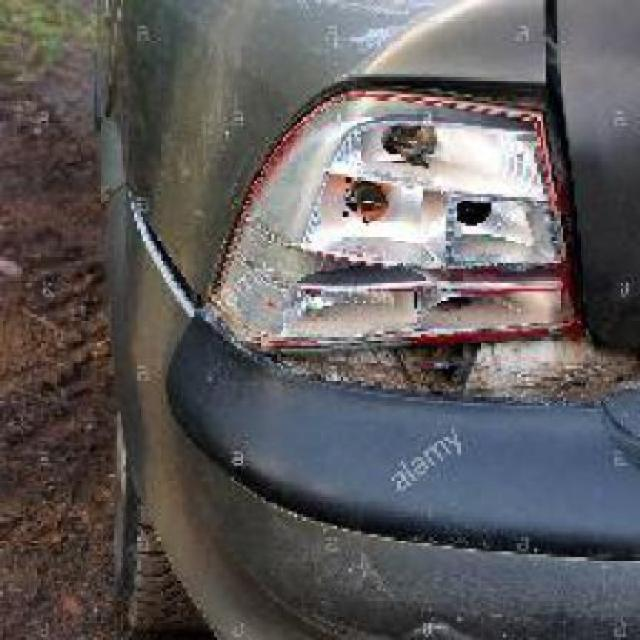damaged-tail-light: (206, 78, 594, 408)
